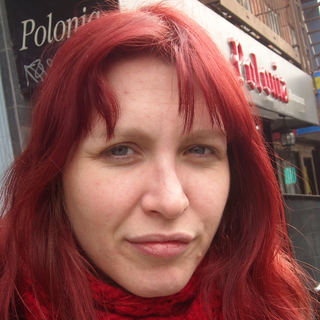eye: (97, 142, 146, 162), (180, 139, 220, 162)
